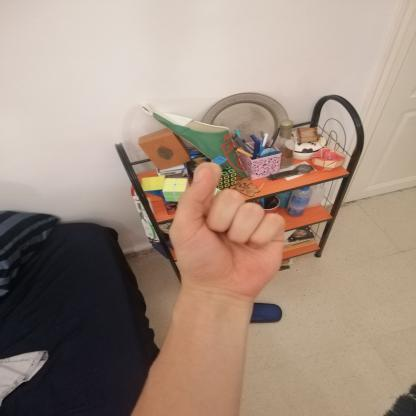FAA: (153, 152, 302, 305)
